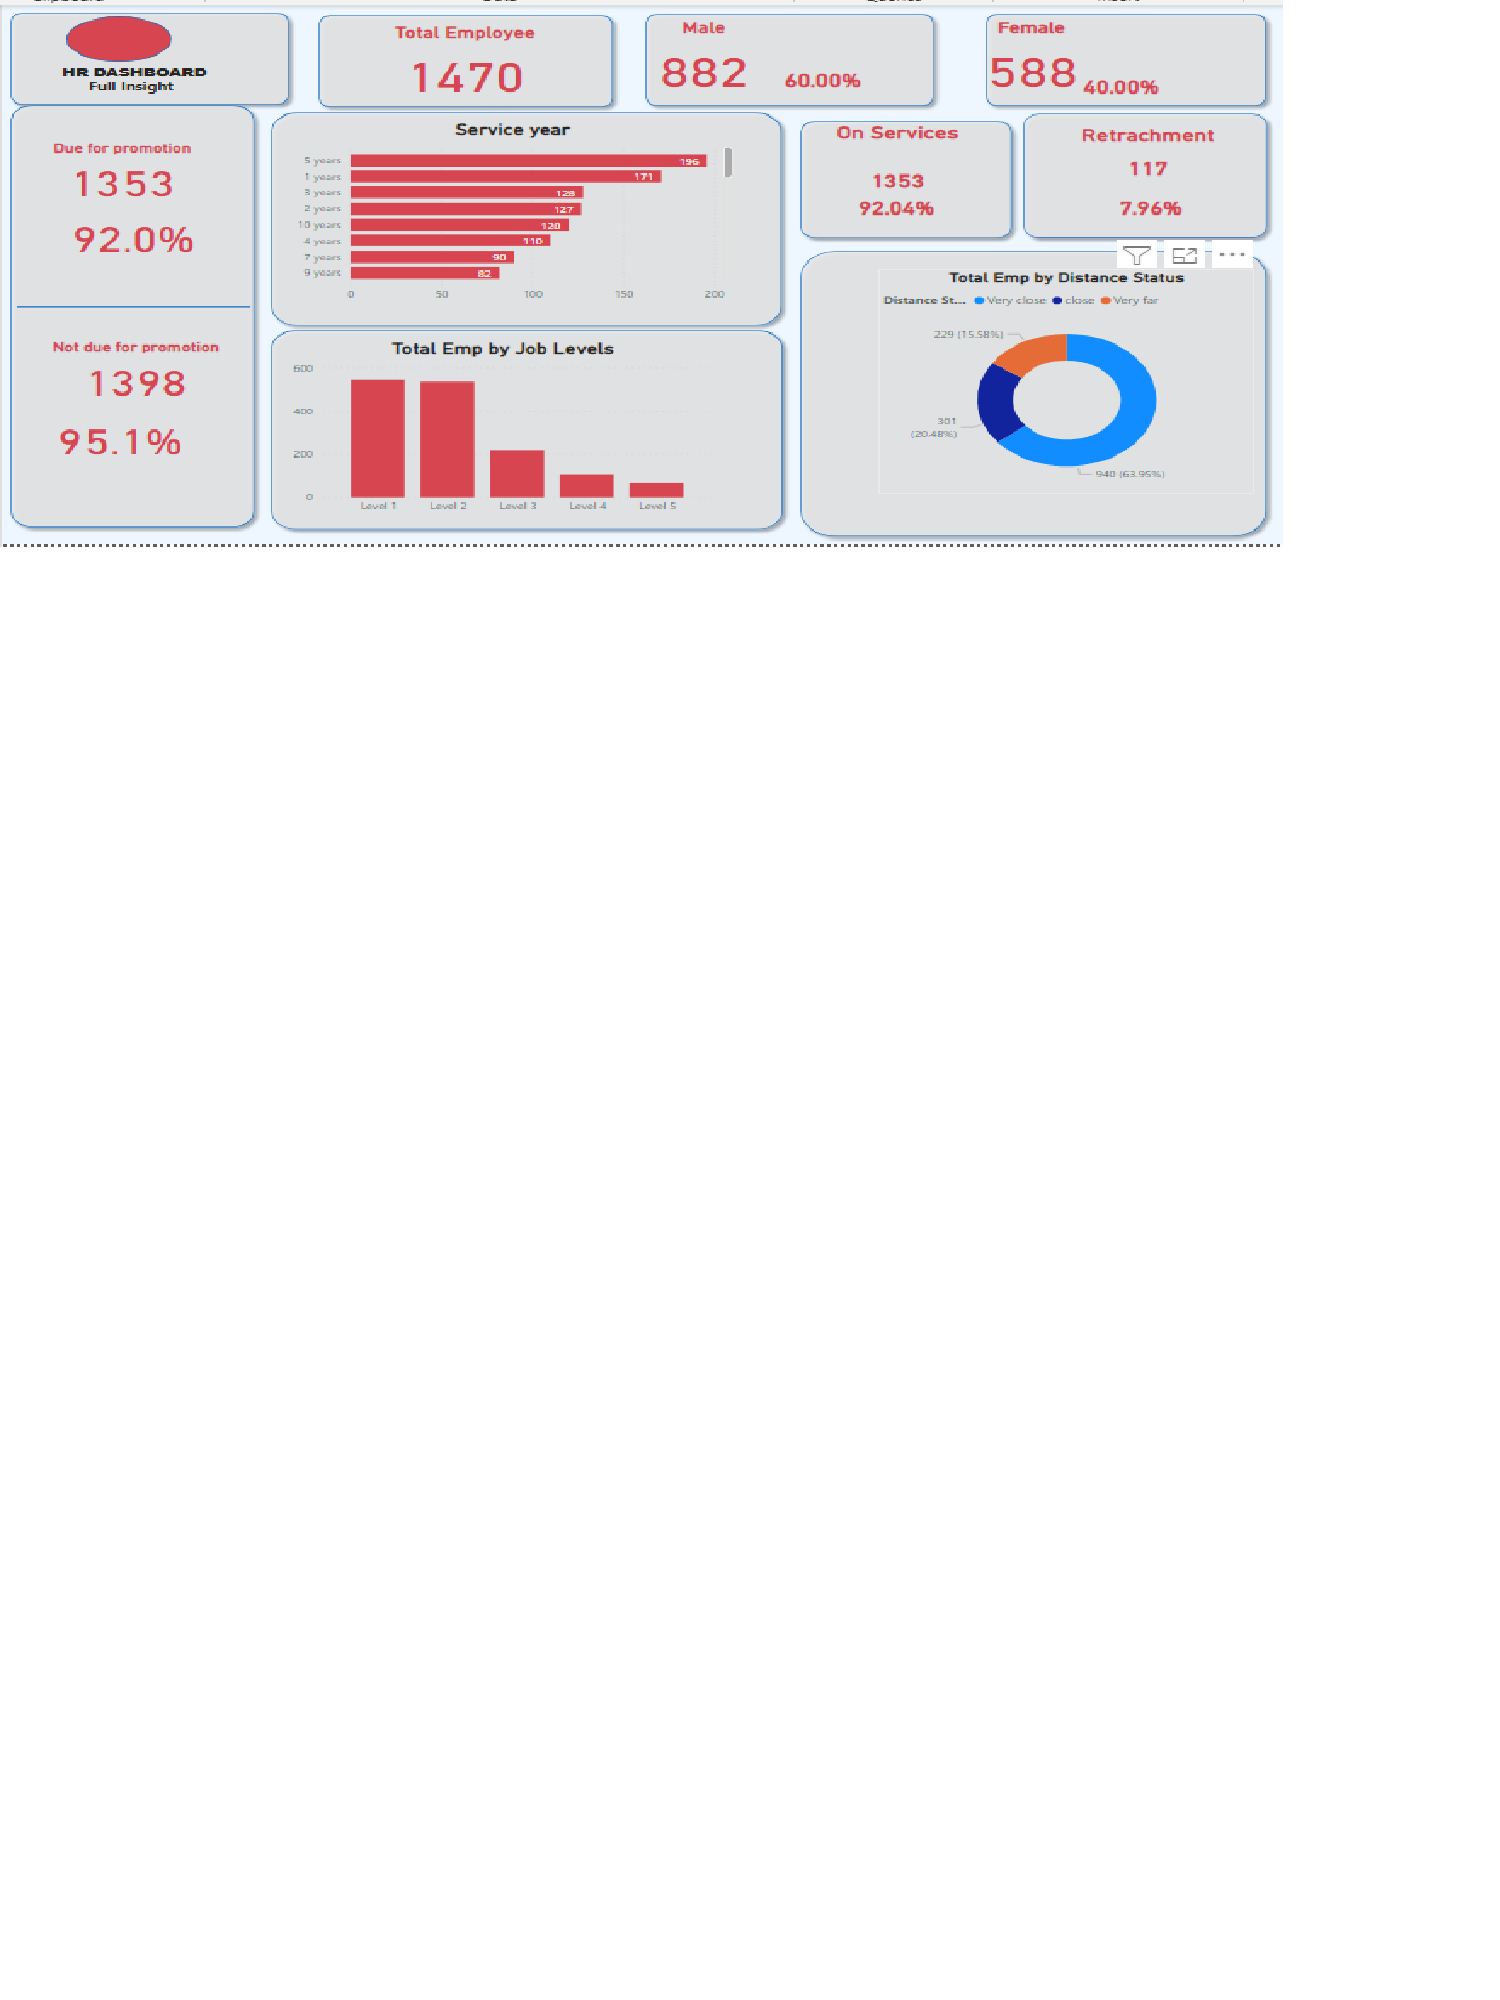

This screenshot's page, from the dashboard's own definition file:
{"tool":"powerbi","page":{"name":"Home","canvas":[1280,720],"ordinal":0},"visuals":[{"type":"shape","box":[782,320,479.1,399.5],"z":0},{"type":"shape","box":[0,1.9,293.5,140.1],"z":1000},{"type":"shape","box":[0,125,259.4,583.2],"z":2000},{"type":"shape","box":[304.9,5.7,308.6,140.1],"z":3000},{"type":"shape","box":[628.6,3.8,303,140.1],"z":4000},{"type":"shape","box":[965.7,3.8,295.4,140.1],"z":5000},{"type":"shape","box":[1001.7,136.3,259.4,183.7],"z":6000},{"type":"shape","box":[257.5,134.4,522.6,303],"z":7000},{"type":"shape","box":[257.5,426,524.5,284],"z":8000},{"type":"shape","box":[782,145.8,227.2,174.2],"z":9000},{"type":"textbox","box":[28.4,72,204.5,39.8],"z":10000},{"type":"textbox","box":[81.4,92.8,159.1,39.8],"z":11000},{"type":"shape","box":[64.4,15.1,104.1,60.6],"z":12000},{"type":"card","title":"Total Employee","fields":{"Values":["All Measures.Total Emp"]},"box":[354.1,24.6,210.2,107.9],"z":13000},{"type":"card","title":"Male","fields":{"Values":["All Measures.Male"]},"box":[640,18.9,109.8,107.9],"z":14000},{"type":"card","title":"Male","fields":{"Values":["All Measures.% male"]},"box":[755.5,77.6,111.7,47.3],"z":15000},{"type":"card","title":"Female","fields":{"Values":["All Measures.Female"]},"box":[965.7,18.9,107.9,107.9],"z":16000},{"type":"card","title":"Male","fields":{"Values":["All Measures.% female"]},"box":[1058.5,83.3,100.4,53],"z":17000},{"type":"card","title":"Not due for promotion","fields":{"Values":["All Measures.Not due"]},"box":[20.8,446.9,225.3,89],"z":18000},{"type":"card","title":"Due for promotion","fields":{"Values":["All Measures.% Not due"]},"box":[20.8,535.9,193.1,89],"z":19000},{"type":"card","title":" Due for promotion","fields":{"Values":["All Measures.Due for promotion"]},"box":[7.6,179.9,225.3,89],"z":20000},{"type":"card","title":"Due for promotion","fields":{"Values":["All Measures.% Due for promotion"]},"box":[34.1,265.1,193.1,89],"z":21000},{"type":"shape","box":[15.1,369.2,231,70.1],"z":22000},{"type":"barChart","title":" Service year","fields":{"Category":["HR Analytics Data.Service year"],"Y":["All Measures.Total Emp"]},"box":[282.1,155.3,445,249.9],"z":23000},{"type":"columnChart","fields":{"Category":["HR Analytics Data.Job Levels"],"Y":["All Measures.Total Emp"]},"box":[282.1,448.8,426,240.5],"z":24000},{"type":"card","title":"On Services","fields":{"Values":["All Measures.Due for promotion"]},"box":[800.9,159.1,170.4,126.9],"z":25000},{"type":"card","title":"Male","fields":{"Values":["All Measures.% On service"]},"box":[827.5,246.2,117.4,49.2],"z":26000},{"type":"card","title":"Retrachment","fields":{"Values":["All Measures.Retrachment"]},"box":[1058.5,160.9,153.4,87.1],"z":27000},{"type":"card","title":"Male","fields":{"Values":["All Measures.% Retrachment"]},"box":[1045.2,248,181.8,47.3],"z":28000},{"type":"donutChart","fields":{"Category":["HR Analytics Data.Distance Status"],"Y":["All Measures.Total Emp"]},"box":[867.2,354.1,373,299.2],"z":29000}]}

Visuals, with their boxes on the page's 1280x720 design canvas (x1, y1, x2, y2). These are canvas units, not pixel positions in the 1500x2000 screenshot, which may show the page scaled, cropped or inside an application window:
shape: <region>782, 320, 1261, 720</region>
shape: <region>0, 2, 294, 142</region>
shape: <region>0, 125, 259, 708</region>
shape: <region>305, 6, 614, 146</region>
shape: <region>629, 4, 932, 144</region>
shape: <region>966, 4, 1261, 144</region>
shape: <region>1002, 136, 1261, 320</region>
shape: <region>258, 134, 780, 437</region>
shape: <region>258, 426, 782, 710</region>
shape: <region>782, 146, 1009, 320</region>
textbox: <region>28, 72, 233, 112</region>
textbox: <region>81, 93, 240, 133</region>
shape: <region>64, 15, 168, 76</region>
"Total Employee" card: <region>354, 25, 564, 132</region>
"Male" card: <region>640, 19, 750, 127</region>
"Male" card: <region>756, 78, 867, 125</region>
"Female" card: <region>966, 19, 1074, 127</region>
"Male" card: <region>1058, 83, 1159, 136</region>
"Not due for promotion" card: <region>21, 447, 246, 536</region>
"Due for promotion" card: <region>21, 536, 214, 625</region>
" Due for promotion" card: <region>8, 180, 233, 269</region>
"Due for promotion" card: <region>34, 265, 227, 354</region>
shape: <region>15, 369, 246, 439</region>
" Service year" barChart: <region>282, 155, 727, 405</region>
columnChart - HR Analytics Data.Job Levels x All Measures.Total Emp: <region>282, 449, 708, 689</region>
"On Services" card: <region>801, 159, 971, 286</region>
"Male" card: <region>828, 246, 945, 295</region>
"Retrachment" card: <region>1058, 161, 1212, 248</region>
"Male" card: <region>1045, 248, 1227, 295</region>
donutChart - HR Analytics Data.Distance Status x All Measures.Total Emp: <region>867, 354, 1240, 653</region>
